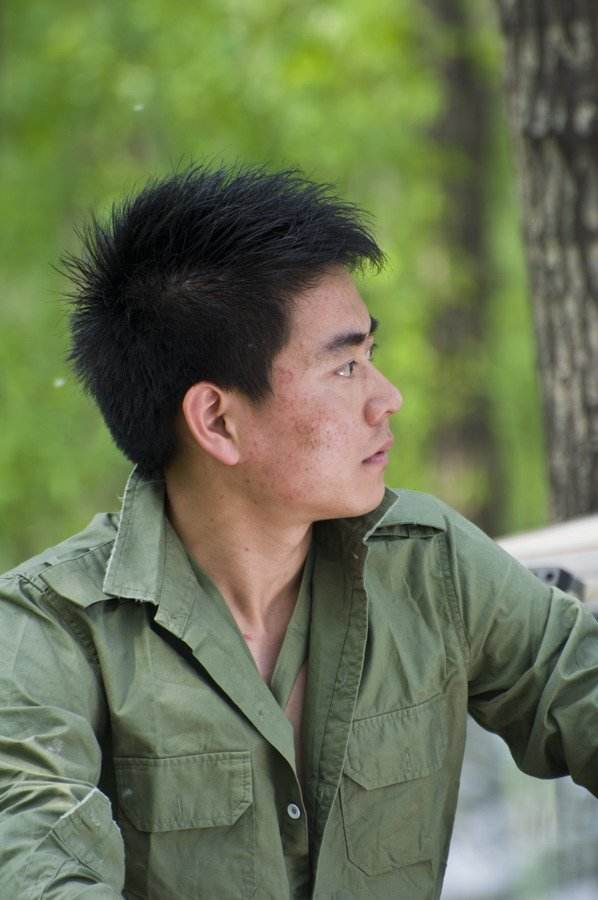person: (73, 153, 512, 900)
